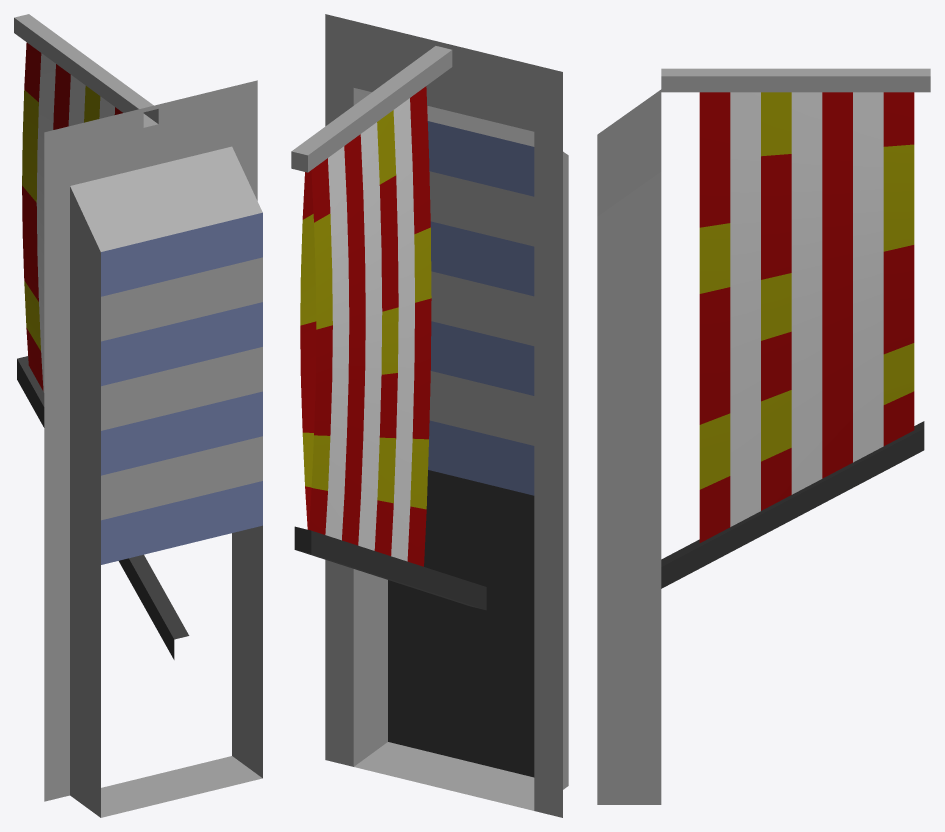
File: WallBottom-Flag-Alternate.fbx
3 renders of one model, left to right at view 1: azimuth 30°, elevation 25°; view 2: azimuth 150°, elevation 25°; view 3: azimuth 270°, elevation 25°, orthographic. The views are drawn at different scales.
Visible parts, largest first — view 1: WallBottomAlternateFlag; view 2: WallBottomAlternateFlag; view 3: WallBottomAlternateFlag.
Part boxes in pixels (x1,y1,x2,y2): WallBottomAlternateFlag: (14,14,262,817); WallBottomAlternateFlag: (291,14,568,817); WallBottomAlternateFlag: (597,68,930,804).
Bounding box in the file's own units: 1 × 3 × 1.3.
